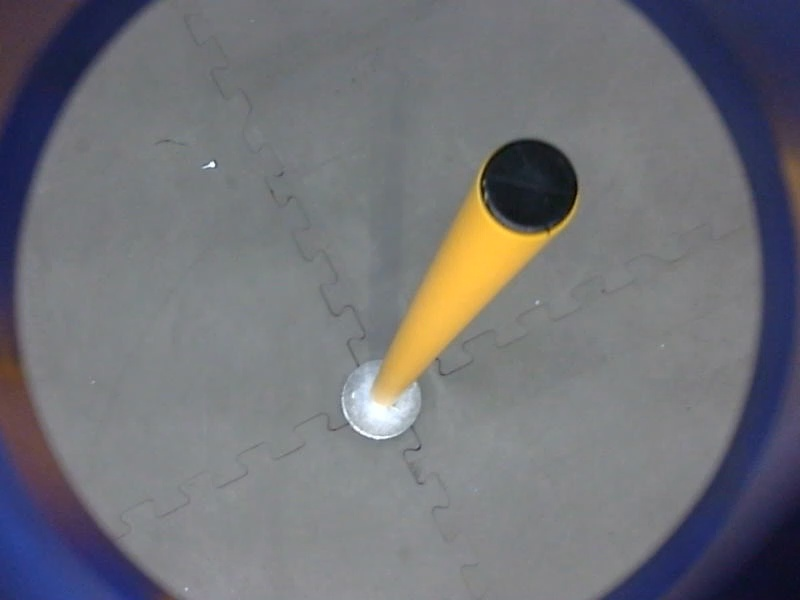tip: (473, 132, 586, 243)
